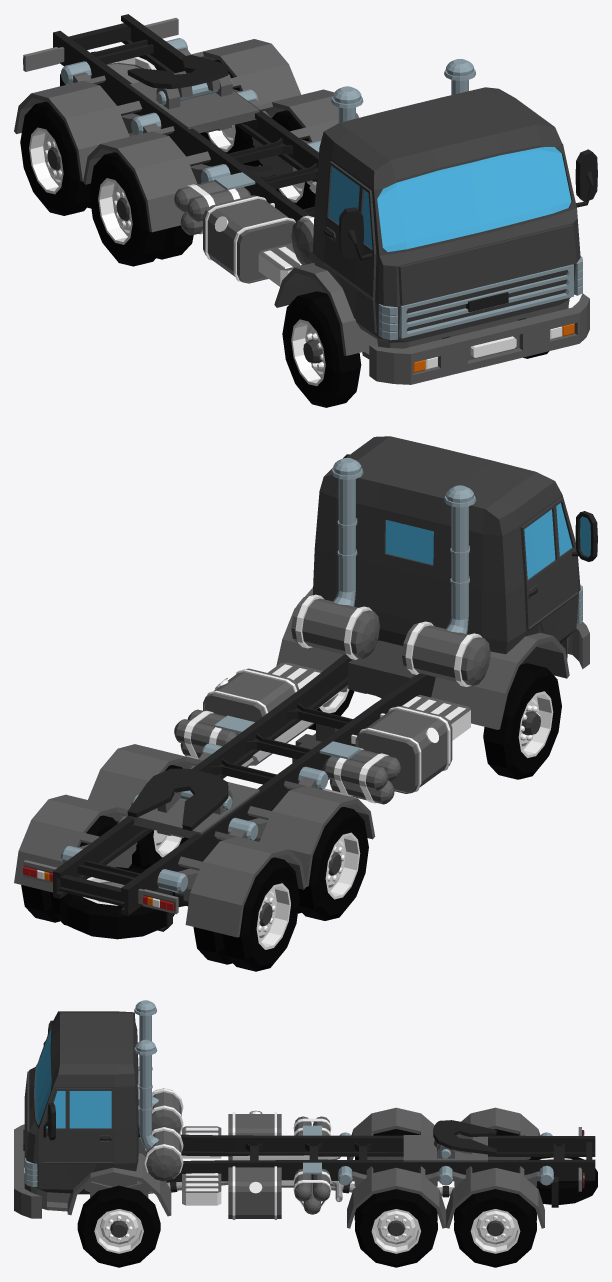
The model's file is kamaz_truck_black.fbx.
The picture shows the model from 3 angles, top to bottom: view 1: azimuth 30°, elevation 25°; view 2: azimuth 150°, elevation 25°; view 3: azimuth 270°, elevation 25°; orthographic projection. The views are drawn at different scales.
Visible parts, largest first — view 1: Cube.028, Cube.030, Cube.031, Cube.032, Cube.033, Cube.034; view 2: Cube.028, Cube.032, Cube.030, Cube.031, Cube.034, Cube.033; view 3: Cube.028, Cube.029, Cube.033, Cube.034.
Boxes of the visible parts, <box> form: Cube.028: <box>14,14,597,384</box>; Cube.030: <box>282,291,361,407</box>; Cube.031: <box>89,152,193,266</box>; Cube.032: <box>20,101,91,215</box>; Cube.033: <box>272,110,315,209</box>; Cube.034: <box>200,60,262,166</box>; Cube.028: <box>14,436,597,939</box>; Cube.032: <box>193,857,299,971</box>; Cube.030: <box>483,663,561,779</box>; Cube.031: <box>298,807,368,920</box>; Cube.034: <box>21,815,117,925</box>; Cube.033: <box>128,765,188,869</box>; Cube.028: <box>14,1000,597,1228</box>; Cube.029: <box>77,1185,160,1267</box>; Cube.033: <box>354,1189,437,1267</box>; Cube.034: <box>454,1189,536,1267</box>.
Size of the model in its own units: 2.81 by 3.01 by 7.7.
